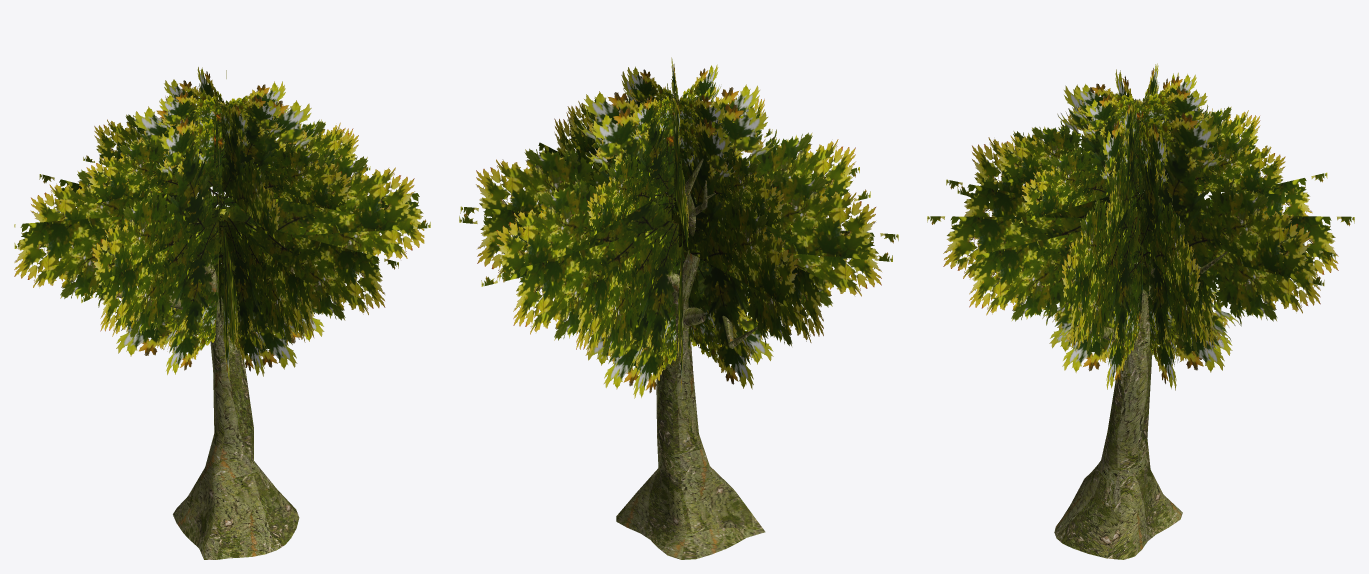
The model's file is tree01.fbx.
The picture shows the model from 3 angles, left to right: view 1: azimuth 30°, elevation 25°; view 2: azimuth 150°, elevation 25°; view 3: azimuth 270°, elevation 25°; orthographic projection. The views are drawn at different scales.
Visible parts, largest first — view 1: 02- tree; view 2: 02- tree; view 3: 02- tree.
Part boxes in pixels (bbox=[...]): 02- tree: bbox=[14, 67, 430, 559]; 02- tree: bbox=[459, 57, 898, 559]; 02- tree: bbox=[927, 63, 1354, 559].
Bounding box in the file's own units: 3904 × 4689 × 4070.
